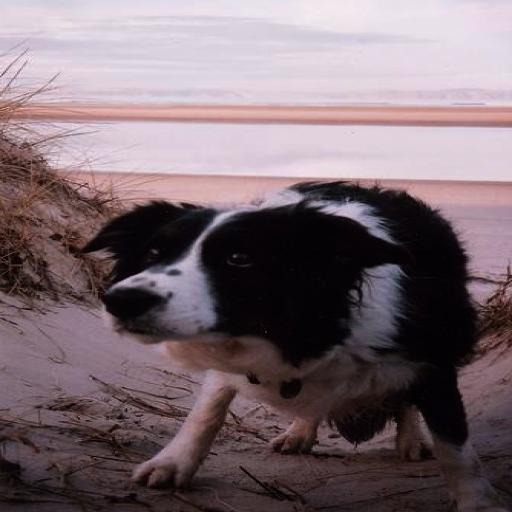dog_face: (78, 190, 416, 363)
